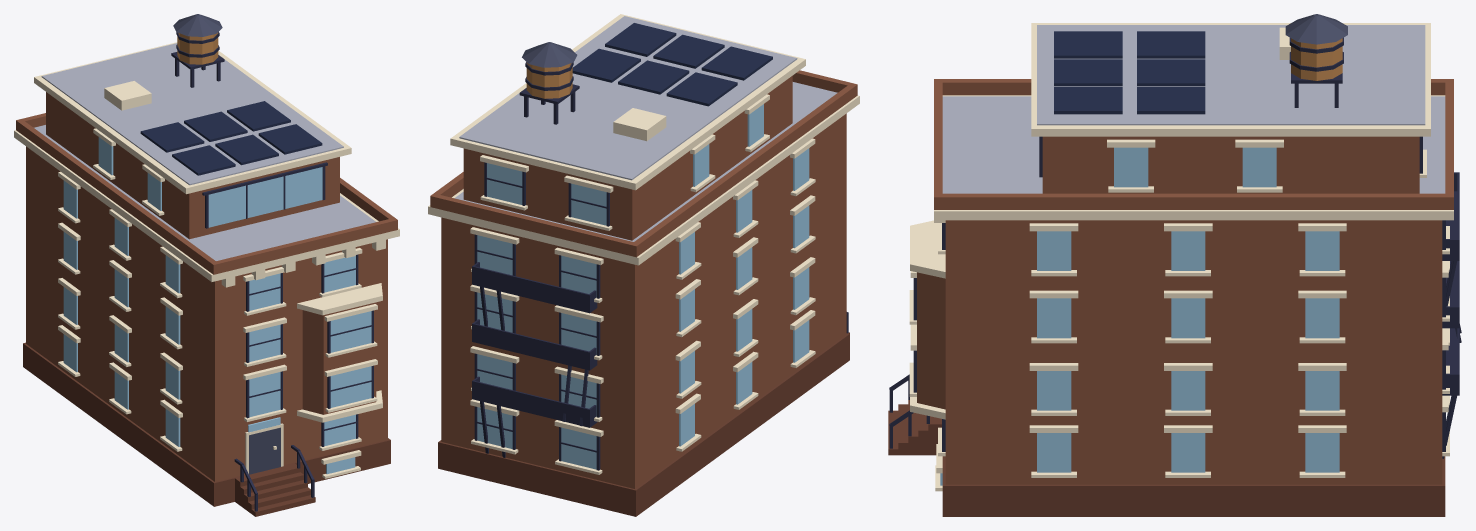
The model's file is house-1x2-5f-brownstone-a-solar.glb.
3 renders of one model, left to right at view 1: azimuth 30°, elevation 25°; view 2: azimuth 150°, elevation 25°; view 3: azimuth 270°, elevation 25°, orthographic. The views are drawn at different scales.
Visible parts, largest first — view 1: house-1x2-5f-brownstone-a-solar; view 2: house-1x2-5f-brownstone-a-solar; view 3: house-1x2-5f-brownstone-a-solar.
Part boxes in pixels (box(x1,y1,x2,y2)): house-1x2-5f-brownstone-a-solar: box(14, 14, 399, 516); house-1x2-5f-brownstone-a-solar: box(428, 14, 859, 516); house-1x2-5f-brownstone-a-solar: box(888, 14, 1461, 516).
Bounding box in the file's own units: 1 × 1.81 × 2.01.
Materials: 1 (1 with a texture image).
